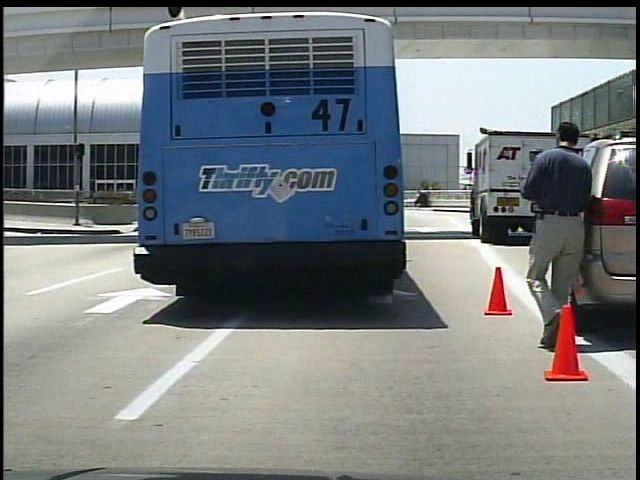person: (521, 117, 599, 355)
